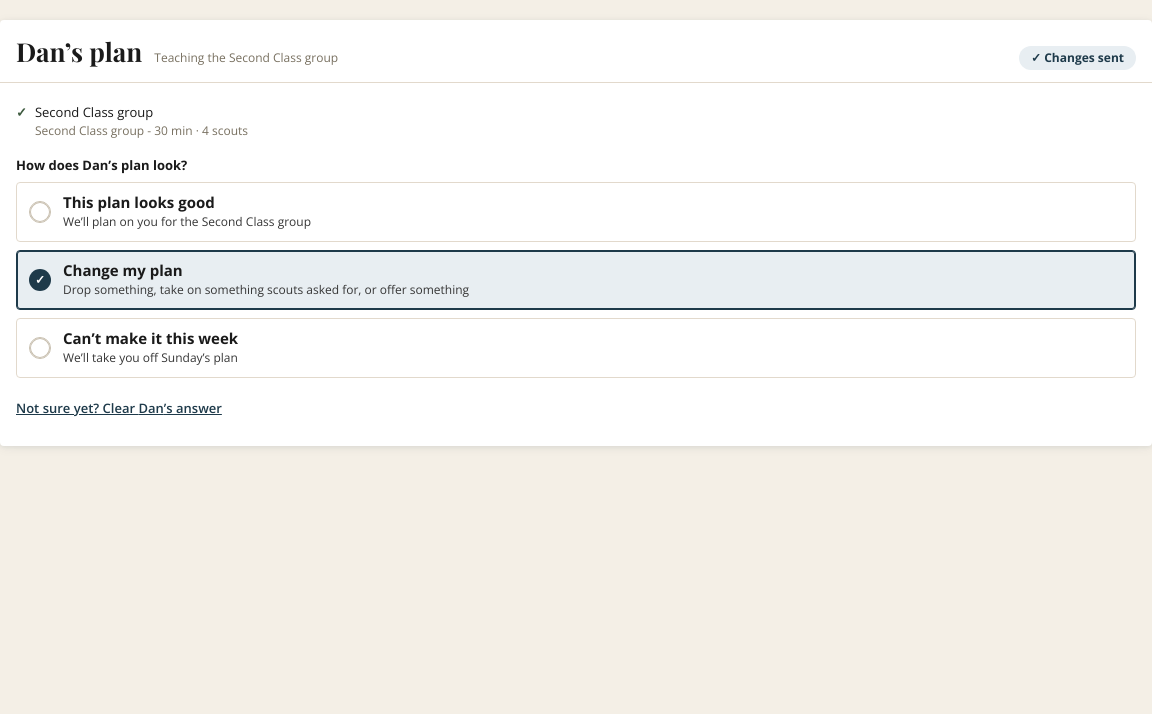
it: the teacher card › Teacher_ChangeMyPlan_ShowsTheLoadMeter
Click the radio button labelled "Change my plan": click(123, 270) left=16, top=250, right=1136, bottom=310
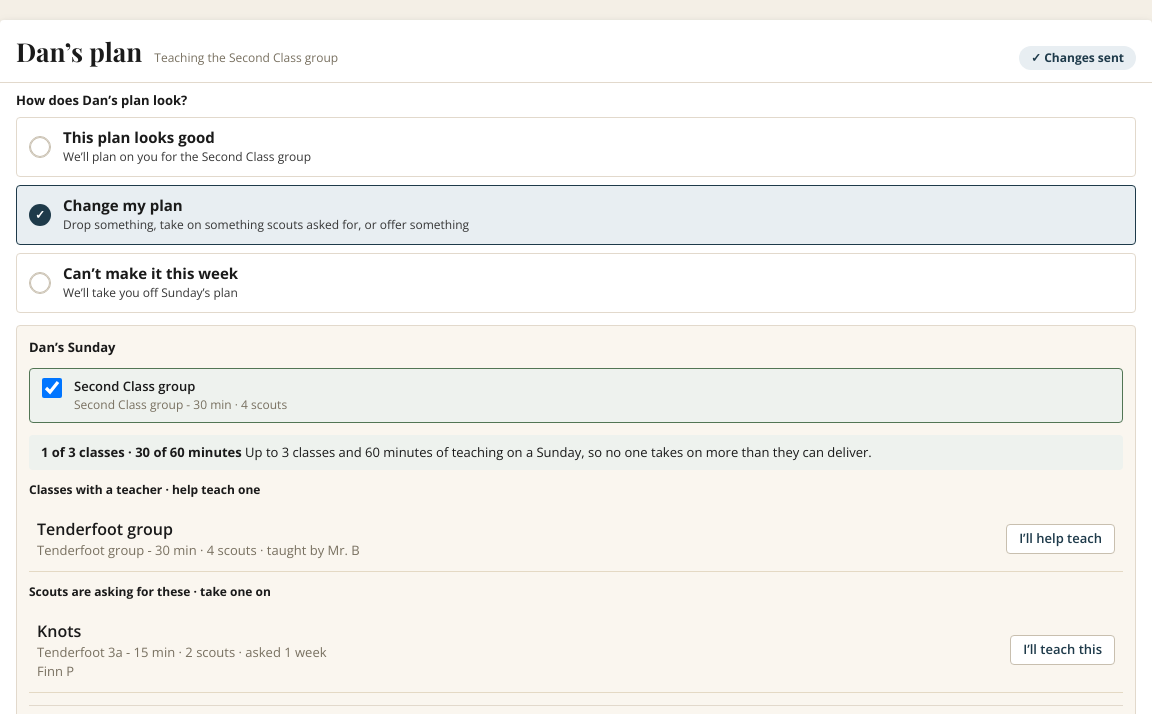
expect the text "1 of 3 classes · 30 of 60 minutes" is shown: met, box left=41, top=443, right=242, bottom=461
